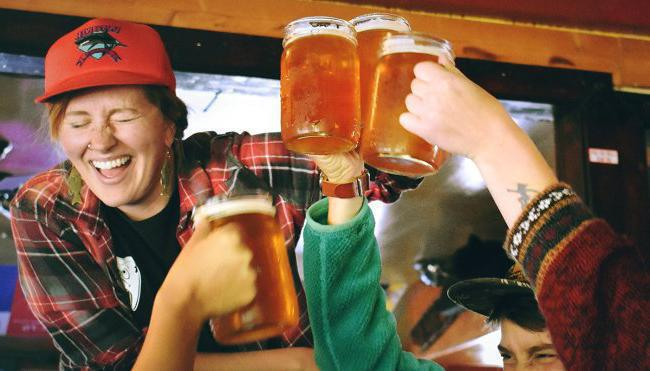Drunk: (59, 95, 166, 205)
